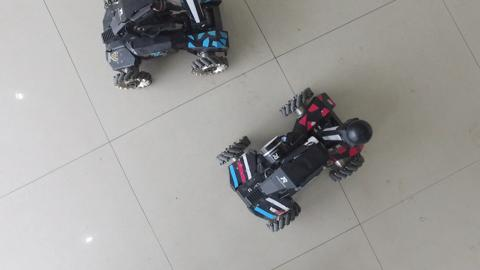chariot: (211, 78, 377, 232), (98, 1, 236, 94)
